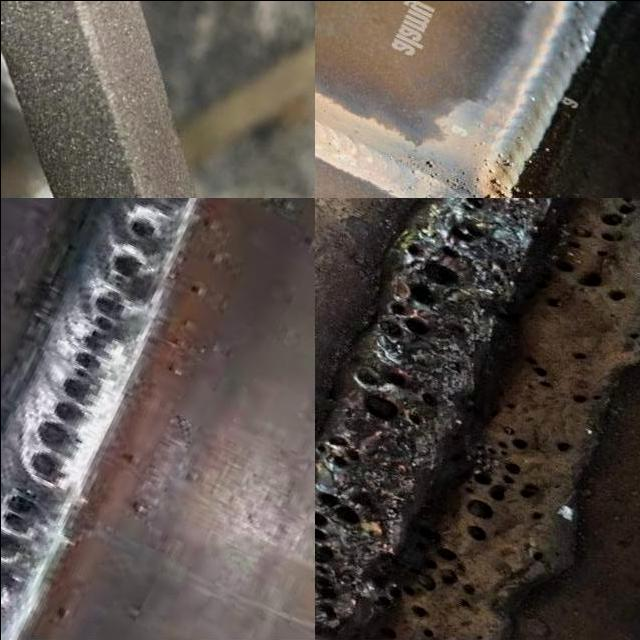defect: (22, 280, 130, 494), (371, 198, 486, 344), (371, 521, 478, 640), (459, 426, 544, 546), (314, 485, 371, 627), (343, 363, 439, 439), (0, 480, 44, 606), (541, 254, 634, 308), (565, 198, 638, 262), (314, 426, 363, 473), (107, 244, 161, 284), (120, 206, 167, 242), (480, 150, 515, 198), (522, 349, 557, 396), (518, 541, 556, 571), (444, 170, 480, 198), (571, 388, 607, 409), (563, 346, 597, 367), (541, 293, 566, 313), (552, 438, 578, 457), (622, 328, 640, 346), (425, 157, 441, 169), (410, 166, 421, 176), (429, 171, 440, 178)
